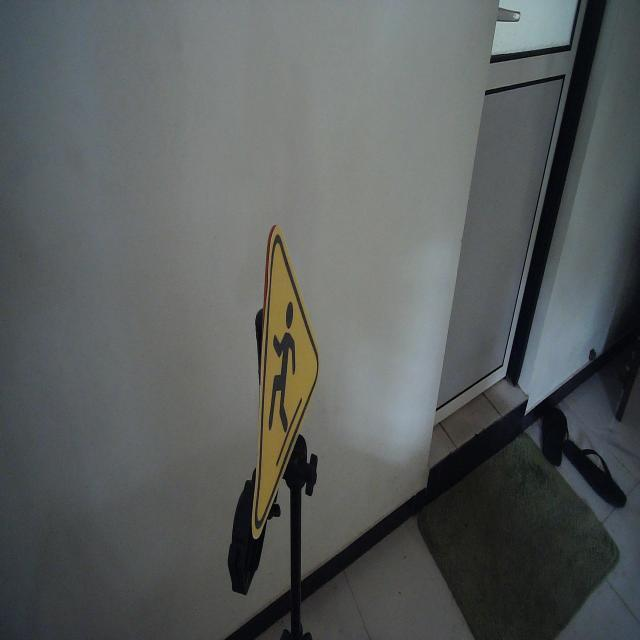slippery_sign: (250, 216, 322, 544)
